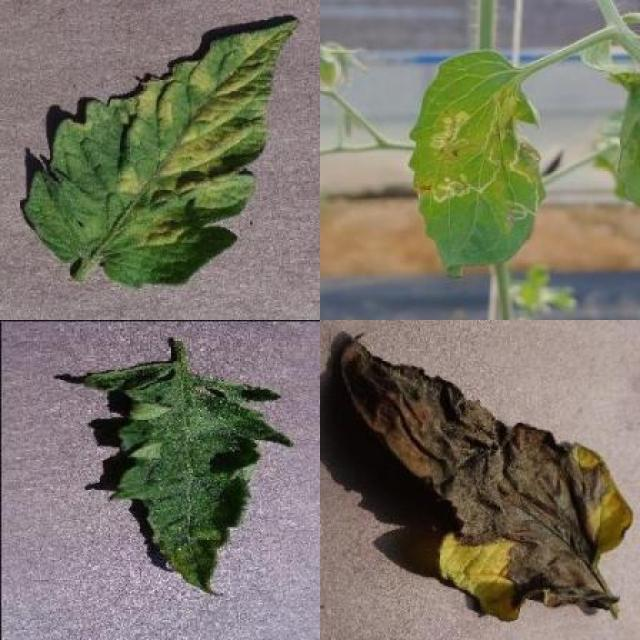Late Blight: (340, 330, 636, 623)
Leaf Miner: (407, 49, 547, 278)
Leaf Mold: (22, 17, 298, 292)
Mosaic Virus: (80, 360, 297, 597)
